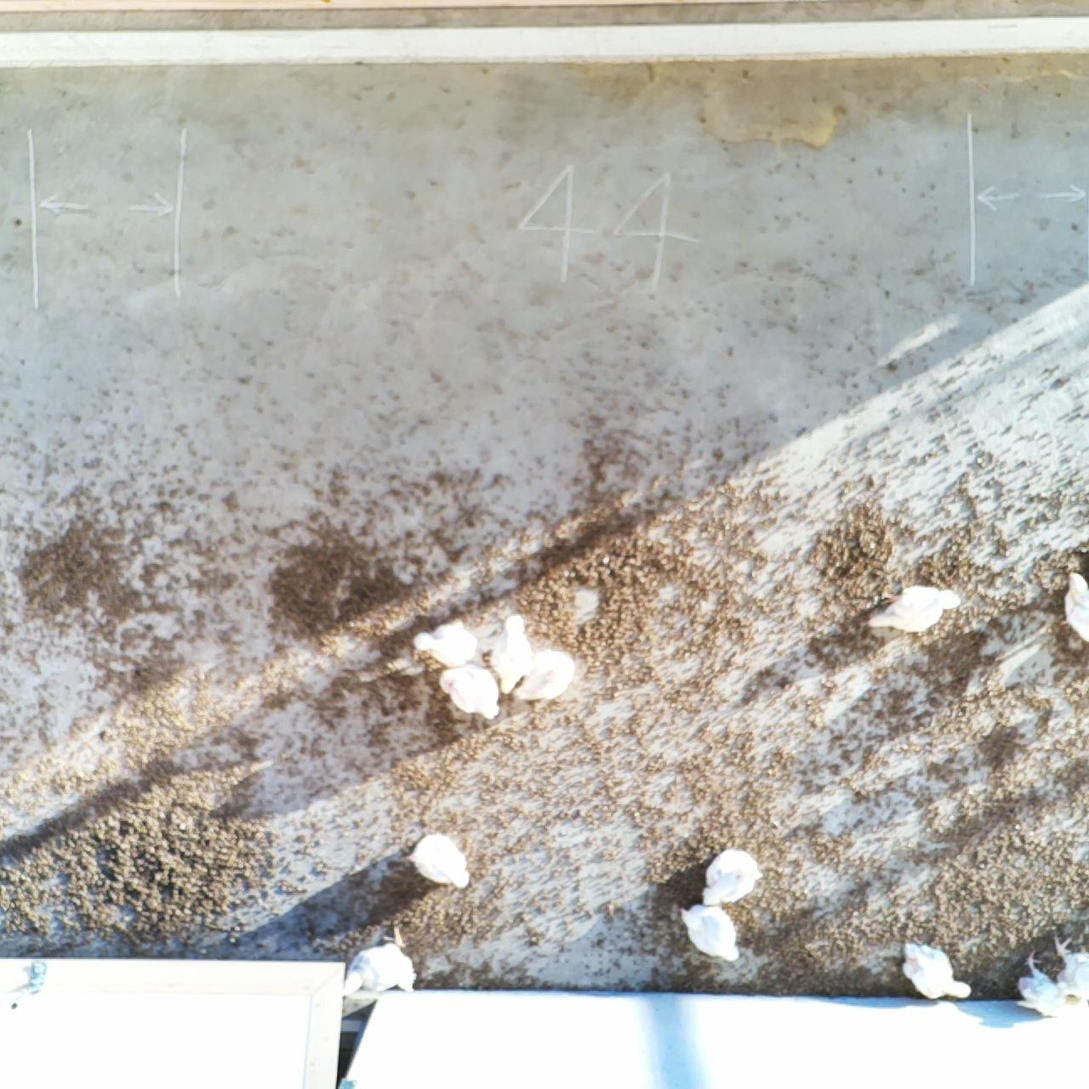chicken: (861, 576, 965, 644), (338, 923, 421, 999), (1009, 944, 1080, 1025), (898, 934, 975, 1007), (674, 898, 748, 967), (484, 608, 537, 698), (405, 829, 475, 895), (701, 844, 765, 912), (436, 660, 503, 723), (512, 644, 578, 705), (411, 616, 482, 670), (1047, 928, 1089, 1007), (1059, 564, 1089, 649)
